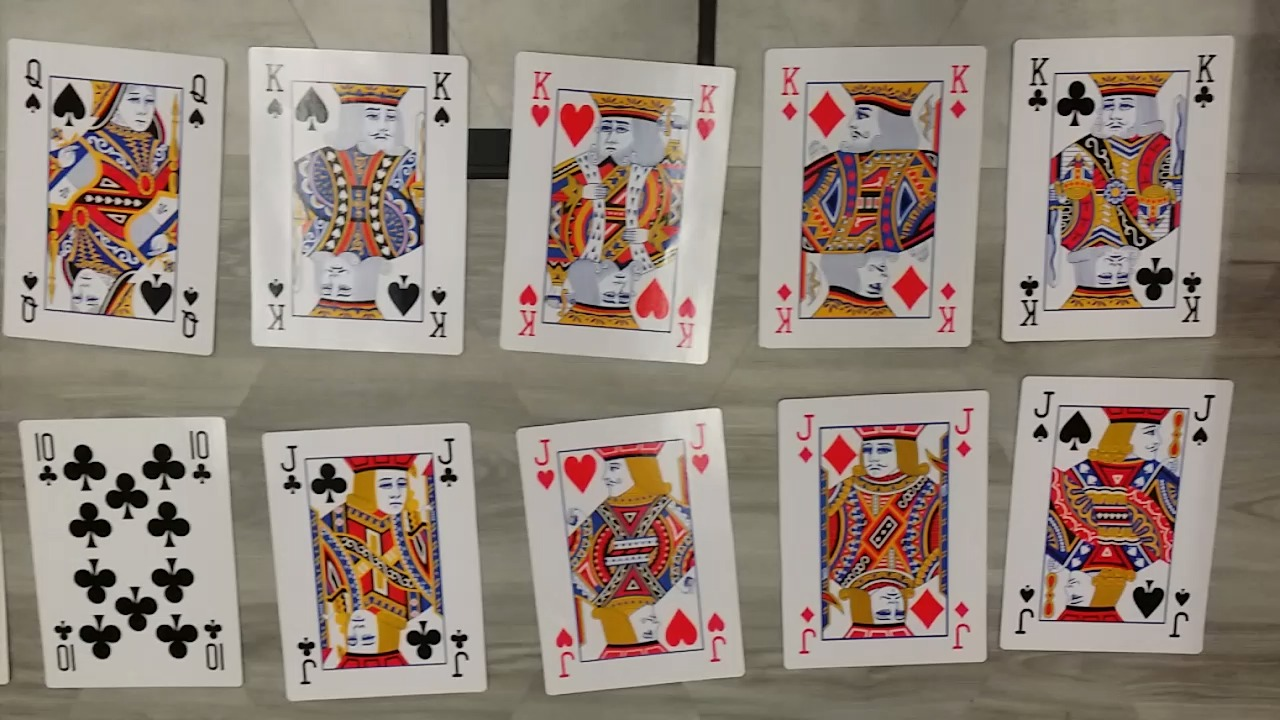10_club: (16, 418, 242, 685)
10_diamond: (769, 381, 998, 675)
jack_club: (257, 416, 482, 706)
jack_heart: (515, 406, 746, 702)
jack_spade: (999, 374, 1240, 655)
king_club: (999, 31, 1236, 340)
king_diamond: (755, 44, 994, 354)
king_heart: (499, 49, 740, 365)
king_spade: (243, 45, 472, 357)
queen_spade: (0, 38, 229, 357)
